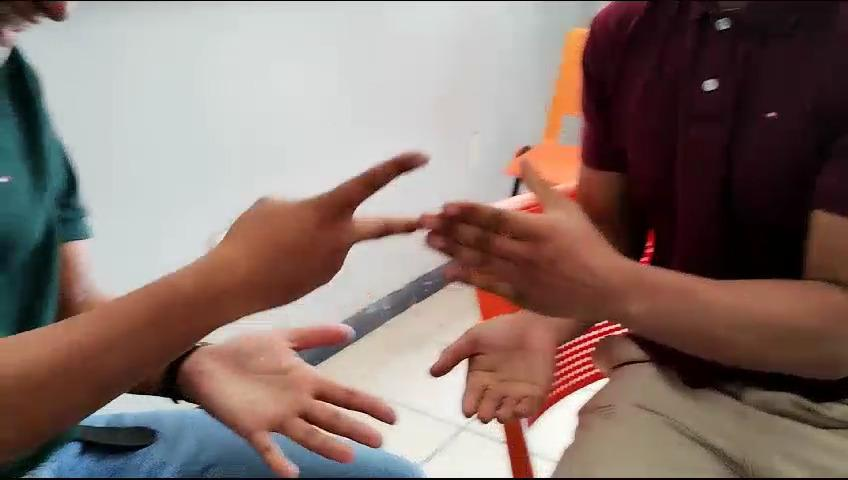Paper: (449, 144, 596, 343)
Scissor: (176, 156, 428, 322)
